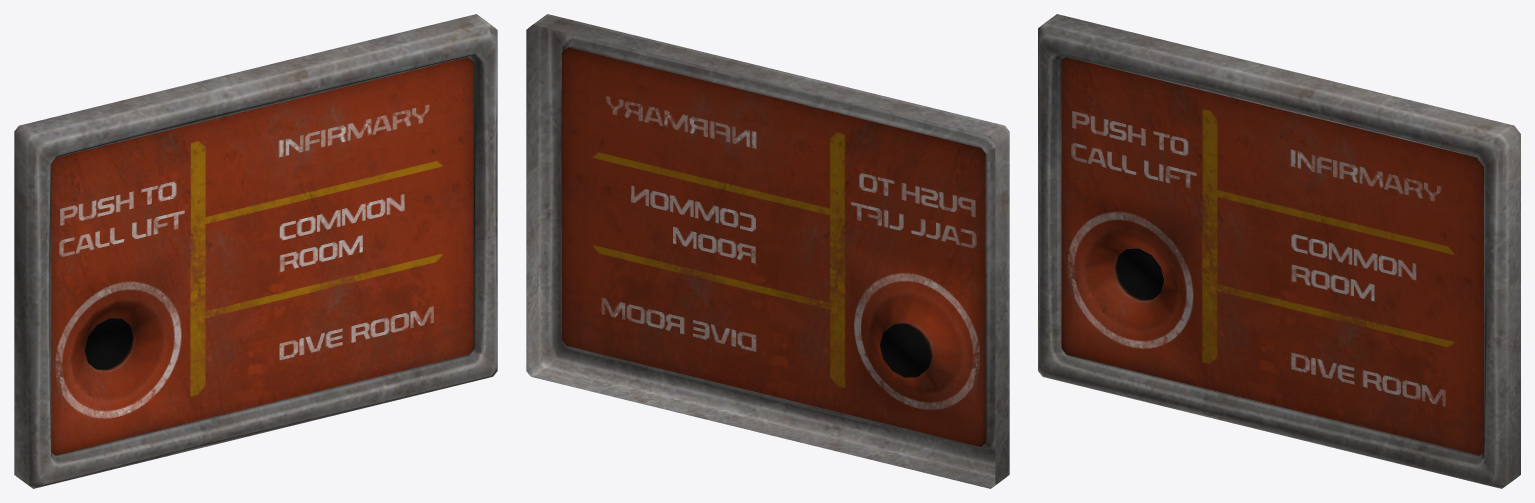
Rendered from cargo_elevator_tau_sign.dae.
3 views of the same model, side by side, from view 1: azimuth 30°, elevation 25°; view 2: azimuth 150°, elevation 25°; view 3: azimuth 330°, elevation 25° (orthographic).
Parts seen in each view (by area): view 1: polySurface3; view 2: polySurface3; view 3: polySurface3.
Part boxes in pixels (left/top/right/bottom): polySurface3: left=14, top=14, right=497, bottom=488; polySurface3: left=526, top=14, right=1009, bottom=488; polySurface3: left=1038, top=14, right=1520, bottom=488.
Size of the model in its own units: 0.8934 by 0.642 by 0.0621.
